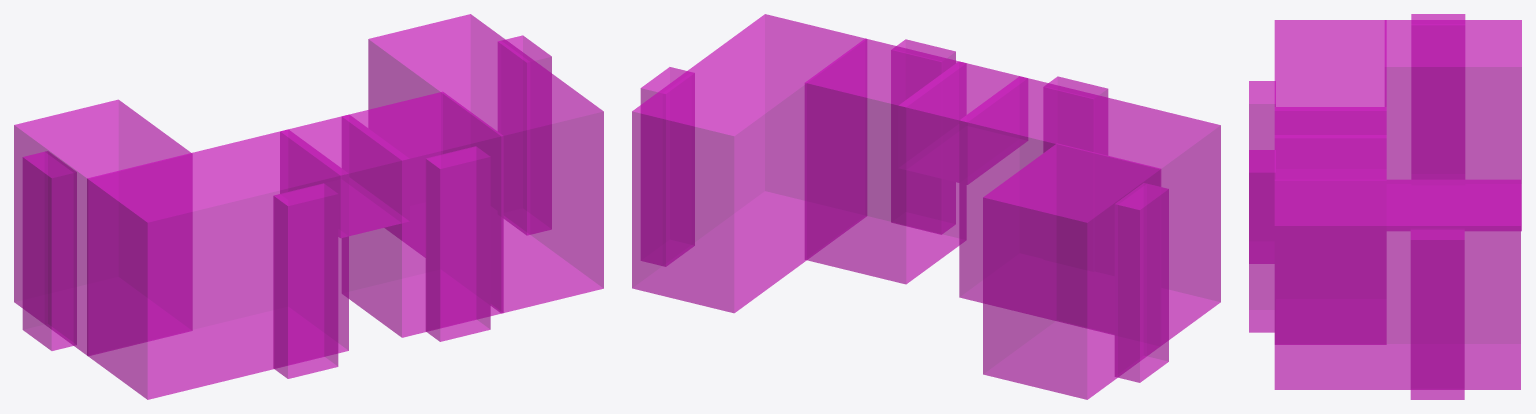
The model's file is SM_Bld_Wall_L_Corner_Doorway_02_Collision.fbx.
3 views of the same model, side by side, from view 1: azimuth 30°, elevation 25°; view 2: azimuth 150°, elevation 25°; view 3: azimuth 270°, elevation 25° (orthographic). The views are drawn at different scales.
Parts seen in each view (by area): view 1: SM_Bld_Wall_L_Corner_Doorway_02_Collision; view 2: SM_Bld_Wall_L_Corner_Doorway_02_Collision; view 3: SM_Bld_Wall_L_Corner_Doorway_02_Collision.
Part boxes in pixels (left/top/right/bottom): SM_Bld_Wall_L_Corner_Doorway_02_Collision: left=14, top=14, right=603, bottom=399; SM_Bld_Wall_L_Corner_Doorway_02_Collision: left=632, top=14, right=1220, bottom=399; SM_Bld_Wall_L_Corner_Doorway_02_Collision: left=1249, top=14, right=1521, bottom=399.
Size of the model in its own units: 900 by 305 by 459.
